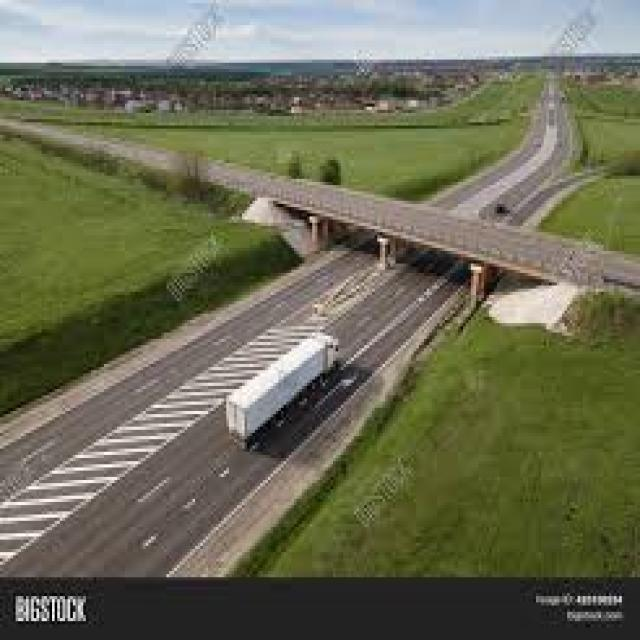truck: (225, 335, 342, 444)
